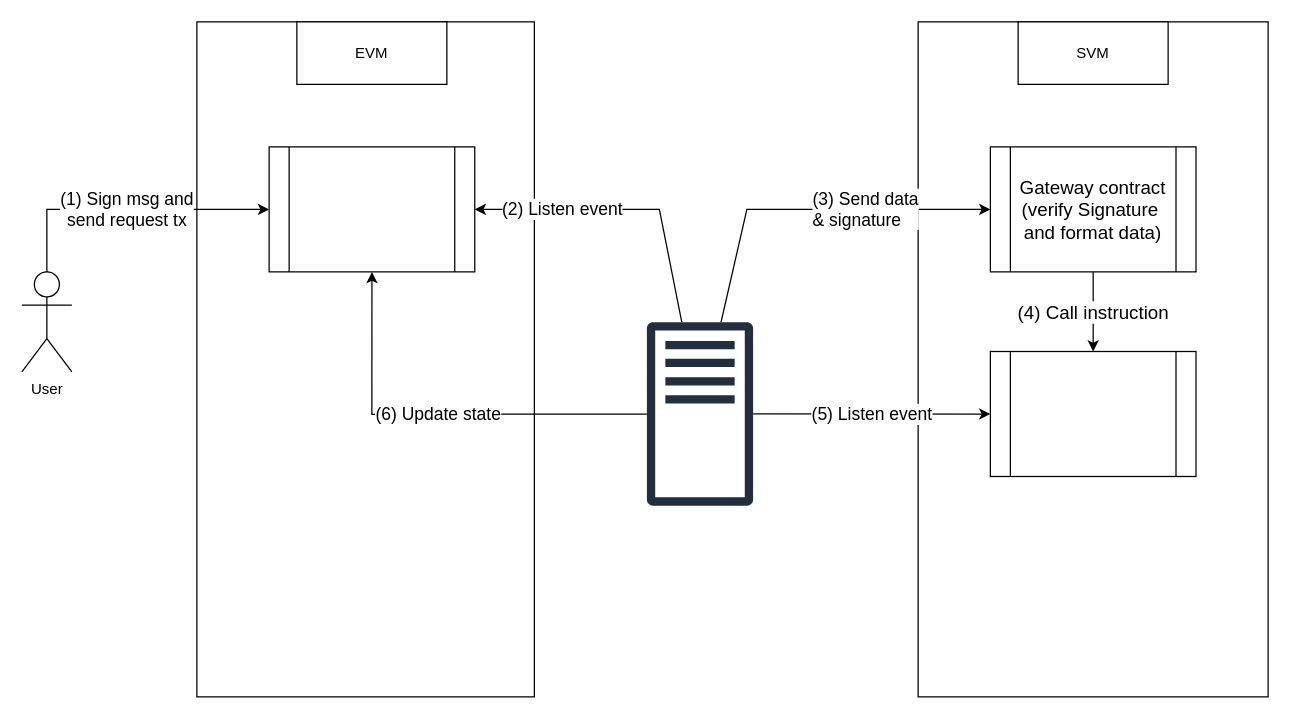
This 1290x719 diagram has some shape labels left out. The box of each missing label's shape, as (x1, y1, x2, y2) in pixels:
Controller contract: (268, 146, 475, 272)
Main contract: (989, 350, 1196, 476)
